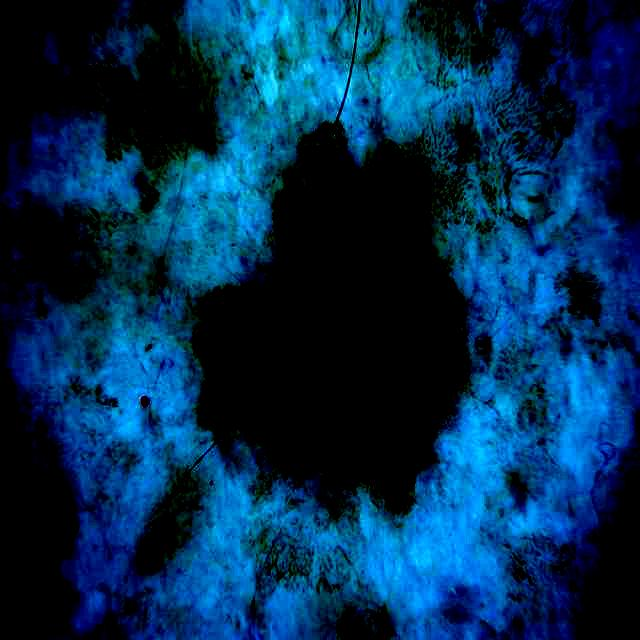BKL: (193, 127, 466, 511)
